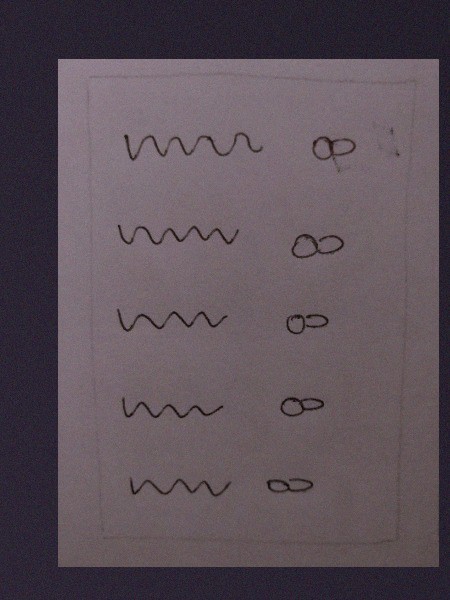switch: (279, 221, 356, 275), (295, 125, 367, 176), (272, 296, 339, 342), (261, 464, 323, 510), (274, 388, 336, 427)
text: (110, 122, 272, 175), (110, 215, 248, 263), (115, 466, 239, 514), (111, 390, 234, 432), (108, 300, 233, 339)
